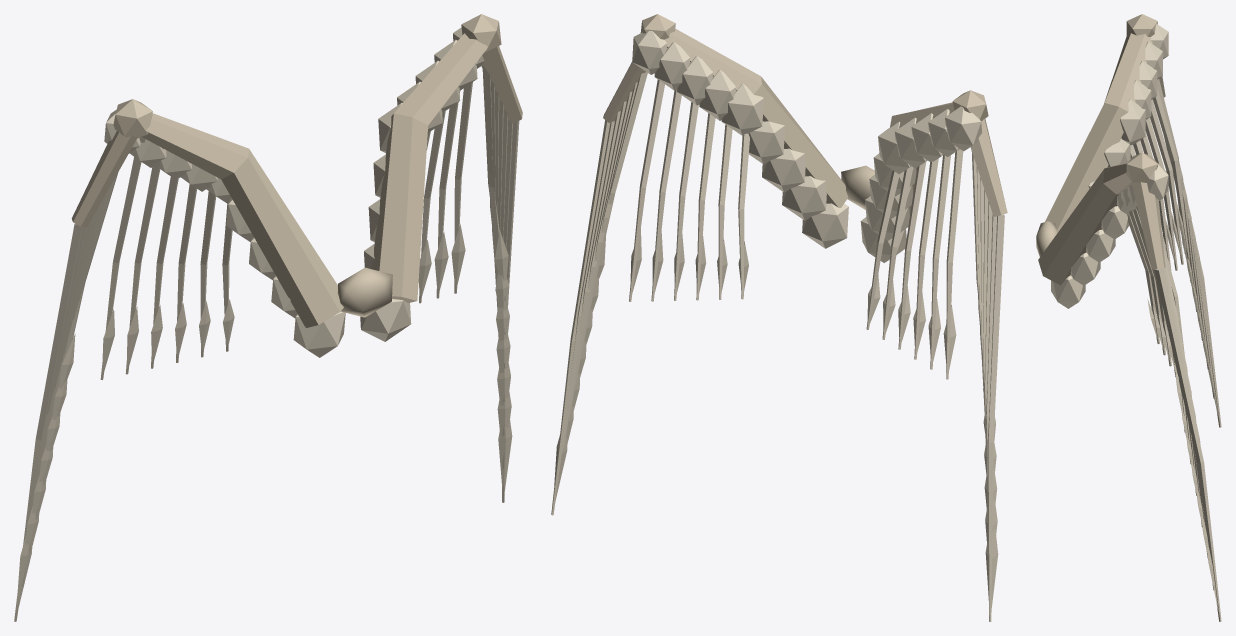
The model's file is wings-0.glb.
The picture shows the model from 3 angles, left to right: view 1: azimuth 30°, elevation 25°; view 2: azimuth 150°, elevation 25°; view 3: azimuth 270°, elevation 25°; orthographic projection. The views are drawn at different scales.
Visible parts, largest first — view 1: wing_r, wing_l, root; view 2: wing_l, wing_r, root; view 3: wing_l, wing_r, root.
Part boxes in pixels (x1,y1,x2,y2): wing_r: [14, 99, 345, 621]; wing_l: [360, 14, 522, 502]; root: [337, 267, 392, 317]; wing_l: [551, 14, 848, 515]; wing_r: [860, 90, 1007, 621]; root: [841, 165, 874, 209]; wing_l: [1038, 153, 1221, 621]; wing_r: [1045, 14, 1221, 427]; root: [1036, 221, 1057, 256].
Size of the model in its own units: 1.13 by 1.19 by 0.4511.
